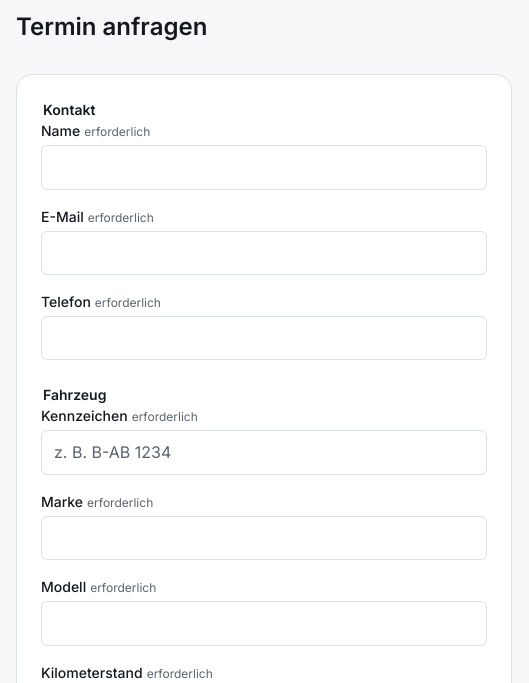
Test: AppointmentRequest › reports an invalid e-mail only after it was entered and left
The width and height of the screenshot is (529, 683).
Type "keine-mail" into the field labelled "E-Mail".
click(264, 253); type("keine-mail")  # box [41,231,487,275]
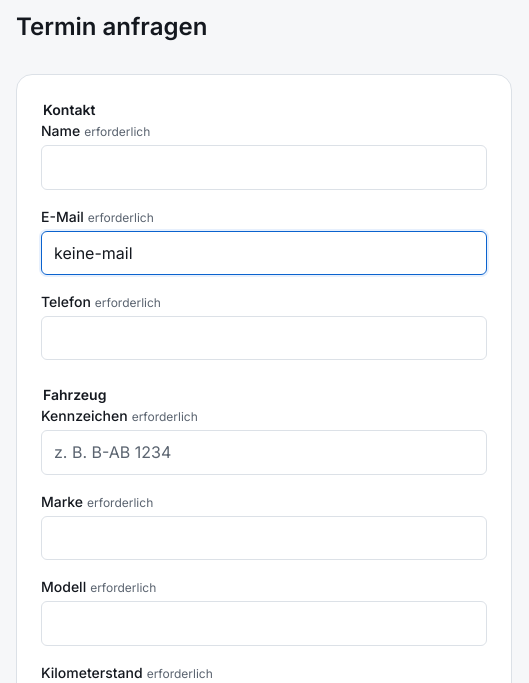
Check: the text "Bitte eine gültige E-Mail-Adresse angeben." is not shown
Press Tab
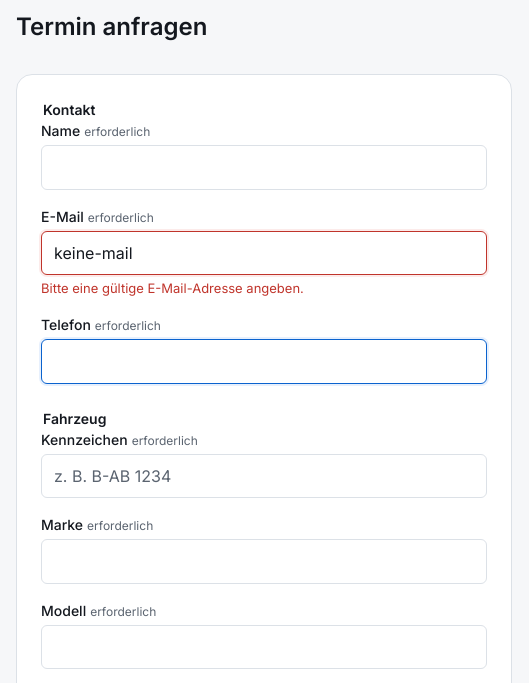
Check: the text "Bitte eine gültige E-Mail-Adresse angeben." is shown, box [41,280,304,296]
